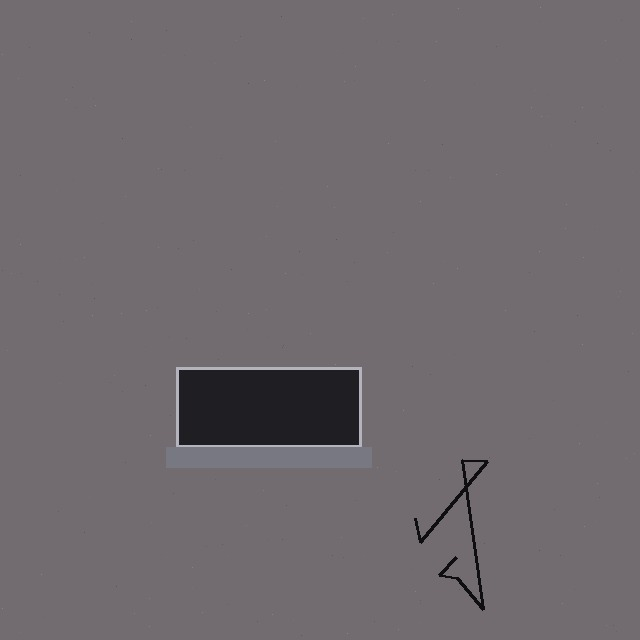crocodile_crack: (387, 446, 494, 609)
laptop: (176, 367, 361, 467)
